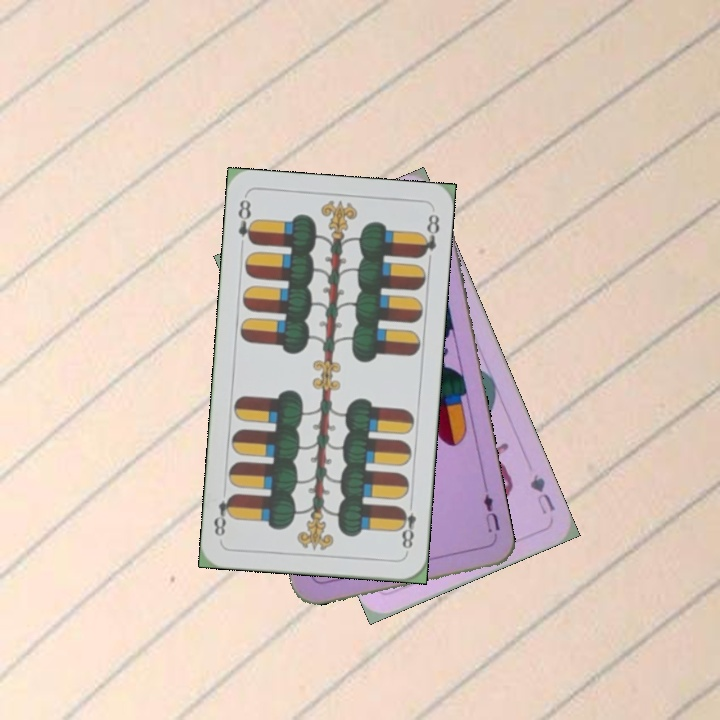E8: (394, 497, 419, 556), (233, 195, 258, 247)
EU: (479, 489, 503, 544)
GU: (525, 470, 558, 518)
